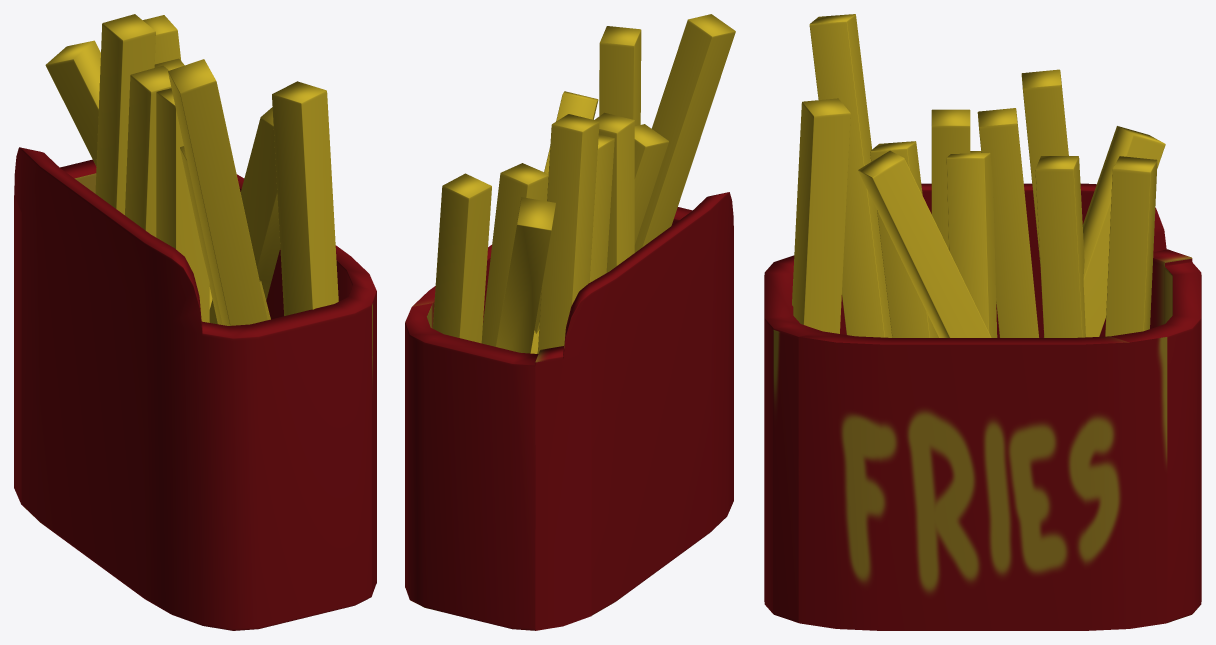
File: frytki.fbx
3 views of the same model, side by side, from view 1: azimuth 30°, elevation 25°; view 2: azimuth 150°, elevation 25°; view 3: azimuth 270°, elevation 25° (orthographic). The views are drawn at different scales.
Visible parts, largest first — view 1: Cube.010; view 2: Cube.010; view 3: Cube.010.
Boxes of the visible parts, left/top/right/bottom form: Cube.010: left=14, top=14, right=376, bottom=630; Cube.010: left=405, top=14, right=735, bottom=630; Cube.010: left=764, top=14, right=1201, bottom=630.
Size of the model in its own units: 70.38 by 177 by 132.
Materials: 2 (1 with a texture image).
